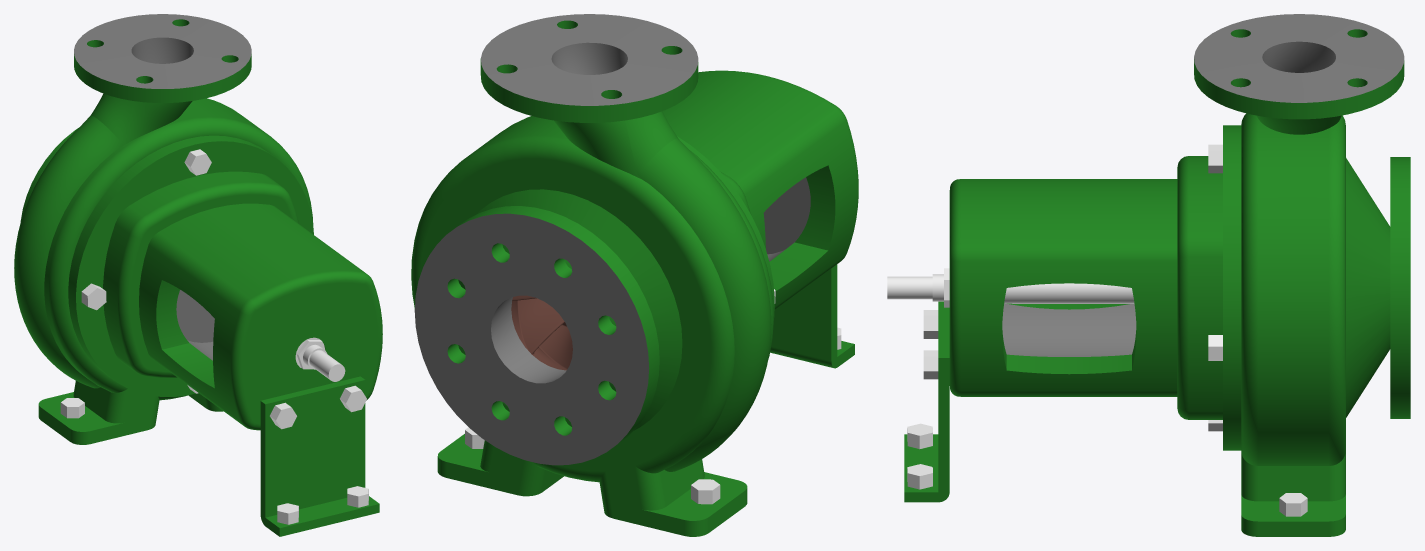
The model's file is Kreiselpumpe.obj.
3 renders of one model, left to right at view 1: azimuth 30°, elevation 25°; view 2: azimuth 150°, elevation 25°; view 3: azimuth 270°, elevation 25°, orthographic. The views are drawn at different scales.
Visible parts, largest first — view 1: Lagerung_pos, Spiralgehause_pos, Welle_pos; view 2: Spiralgehause_pos, Lagerung_pos, Laufrad_Schaufeln_pos; view 3: Spiralgehause_pos, Lagerung_pos, Welle_pos.
Part boxes in pixels (x1,y1,x2,y2): Lagerung_pos: [68, 135, 382, 536]; Spiralgehause_pos: [14, 14, 313, 444]; Welle_pos: [296, 339, 345, 381]; Spiralgehause_pos: [411, 14, 773, 536]; Lagerung_pos: [662, 70, 858, 368]; Laufrad_Schaufeln_pos: [512, 295, 572, 369]; Spiralgehause_pos: [1194, 14, 1410, 536]; Lagerung_pos: [904, 125, 1241, 502]; Welle_pos: [887, 268, 1134, 307].
Size of the model in its own units: 0.3313 by 0.4035 by 0.46.
